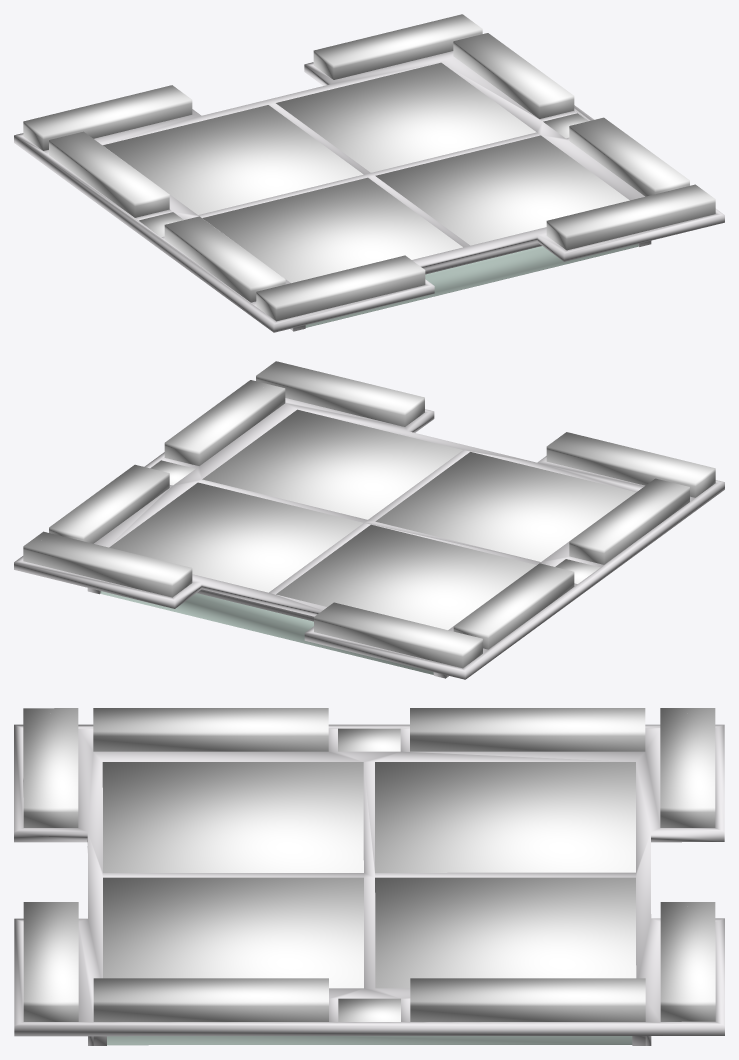
The model's file is TAV-Decke_fixed.fbx.
The picture shows the model from 3 angles, top to bottom: view 1: azimuth 30°, elevation 25°; view 2: azimuth 150°, elevation 25°; view 3: azimuth 270°, elevation 25°; orthographic projection. The views are drawn at different scales.
Visible parts, largest first — view 1: GDLM8_builtInMatLampBulb; view 2: GDLM8_builtInMatLampBulb; view 3: GDLM8_builtInMatLampBulb.
Boxes of the visible parts, left/top/right/bottom form: GDLM8_builtInMatLampBulb: left=14, top=14, right=724, bottom=332; GDLM8_builtInMatLampBulb: left=14, top=361, right=724, bottom=679; GDLM8_builtInMatLampBulb: left=14, top=708, right=724, bottom=1045.
Bounding box in the file's own units: 379 × 42 × 378.
